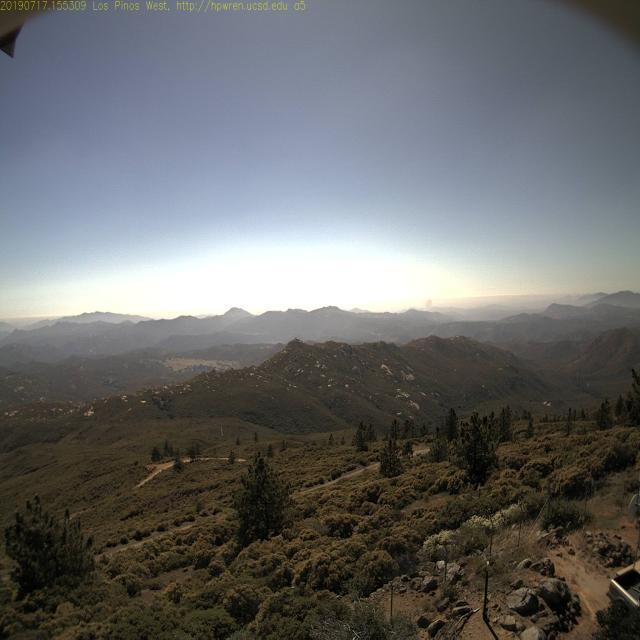smoke: (420, 290, 436, 320)
